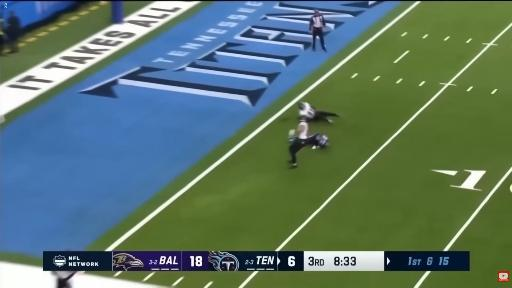Helmet: (319, 138, 328, 147), (298, 103, 305, 110), (299, 116, 307, 122)
Jersey: (300, 103, 315, 118), (298, 121, 309, 140), (309, 133, 325, 144)
Player: (289, 117, 309, 167), (299, 103, 339, 122), (307, 134, 328, 149), (311, 134, 328, 149)
